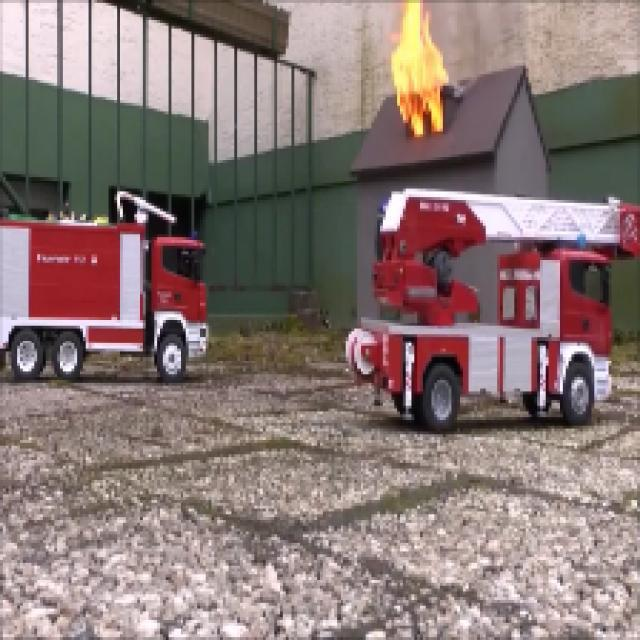Fire: (382, 7, 452, 135)
